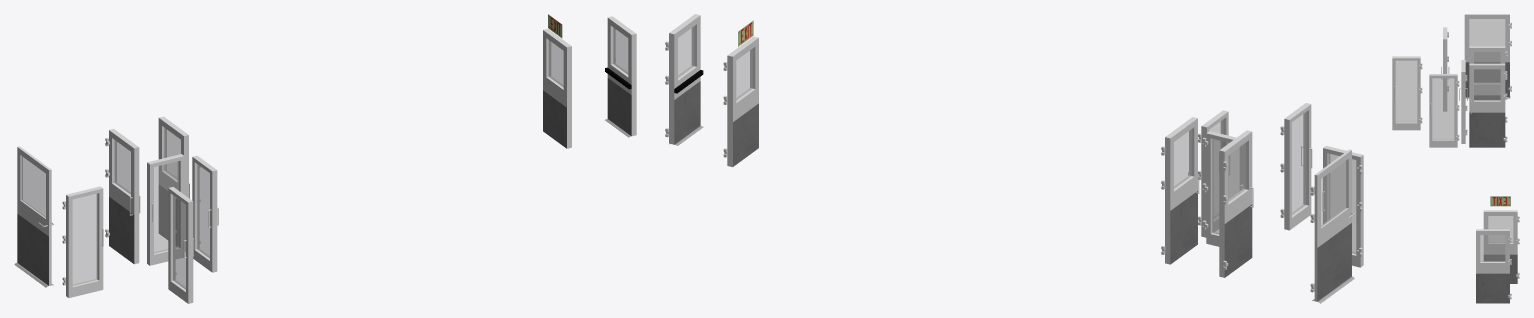
File: lab doors.fbx
3 renders of one model, left to right at view 1: azimuth 30°, elevation 25°; view 2: azimuth 150°, elevation 25°; view 3: azimuth 270°, elevation 25°, orthographic. The views are drawn at different scales.
Parts seen in each view (by area): view 1: door 1, door 2, door 4, door 5, door 8, door 9, door 3, door 6, door 7; view 2: door 1, door 4, door 7, door 8, door 9, door 3, door 2, door 5, door 6; view 3: door 7, door 1, door 9, door 3, door 6, door 8, door 4, door 5, door 2, Plane.014.
Part boxes in pixels (x1,y1,x2,y2): door 1: (17, 146, 51, 285); door 2: (66, 186, 103, 297); door 4: (109, 128, 139, 264); door 5: (147, 154, 184, 265); door 8: (543, 29, 571, 148); door 9: (607, 16, 636, 136); door 3: (168, 187, 193, 303); door 6: (192, 155, 217, 272); door 7: (158, 116, 188, 251); door 1: (1314, 149, 1351, 301); door 4: (1219, 130, 1252, 277); door 7: (1165, 117, 1197, 264); door 8: (727, 36, 758, 167); door 9: (669, 14, 700, 144); door 3: (1284, 103, 1311, 230); door 2: (1323, 146, 1363, 267); door 5: (1206, 131, 1243, 246); door 6: (1201, 110, 1228, 237); door 7: (1469, 63, 1505, 147); door 1: (1464, 14, 1509, 97); door 9: (1476, 229, 1509, 302); door 3: (1392, 56, 1420, 130); door 6: (1429, 74, 1457, 147); door 8: (1483, 210, 1517, 283); door 4: (1469, 46, 1505, 99); door 5: (1461, 60, 1465, 143); door 2: (1443, 27, 1447, 111); Plane.014: (1490, 196, 1510, 206).
Size of the model in its own units: 1325 by 254 by 342.
